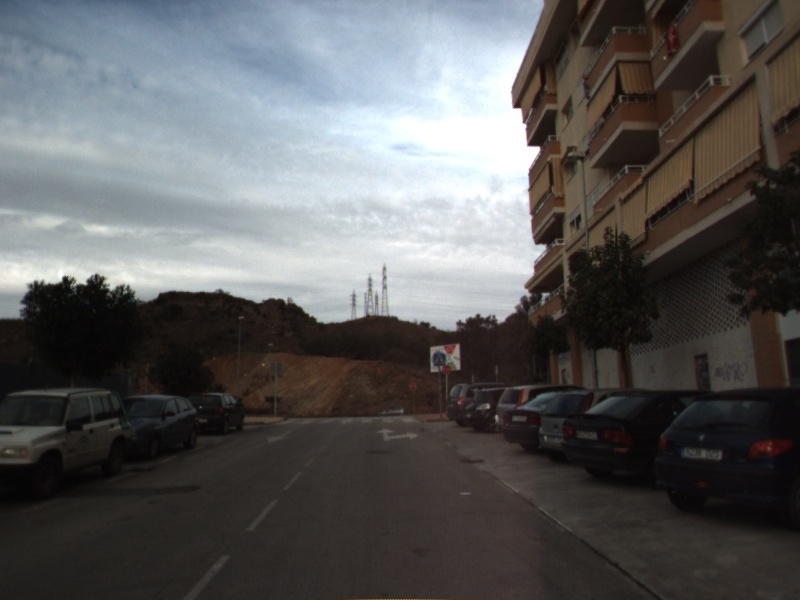STRAIGHT_RIGHT: (373, 426, 421, 443)
